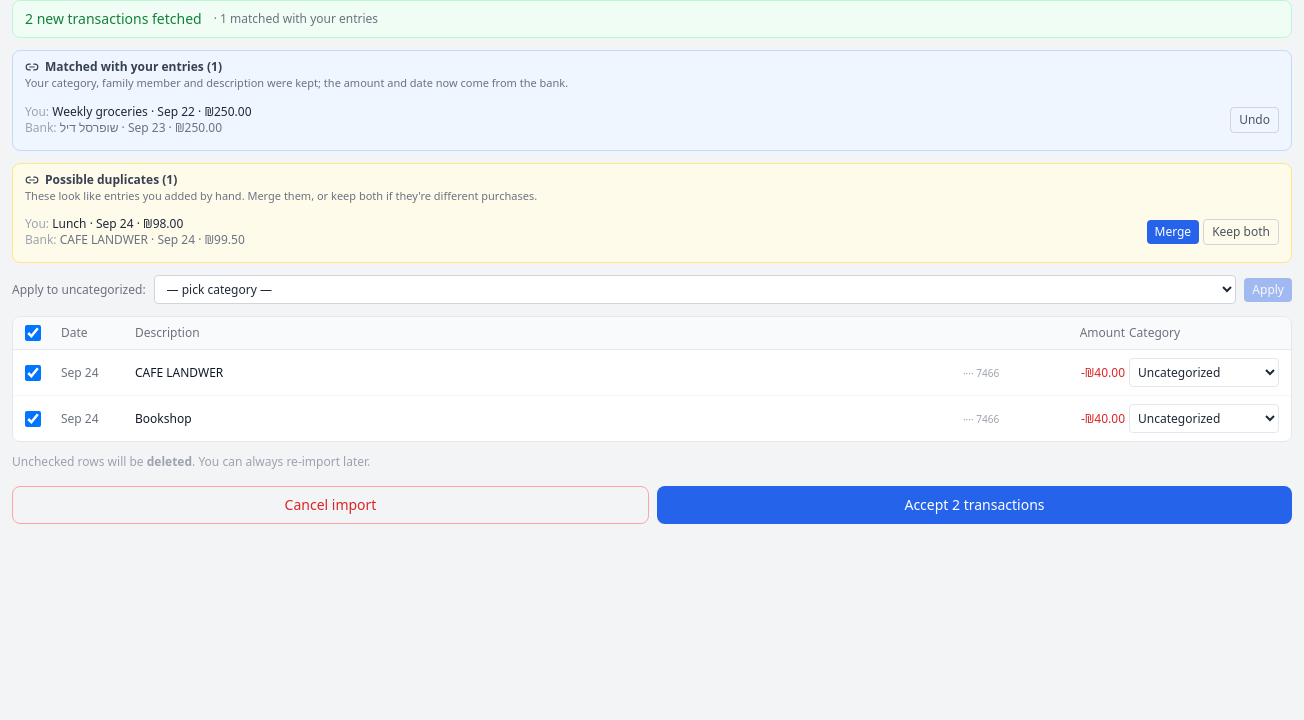
ImportReviewStep matching › undoes a merge and reloads the rows
This screenshot has width=1304, height=720.
Click the button "Undo" at (1255, 120), box [1230,106,1279,132]
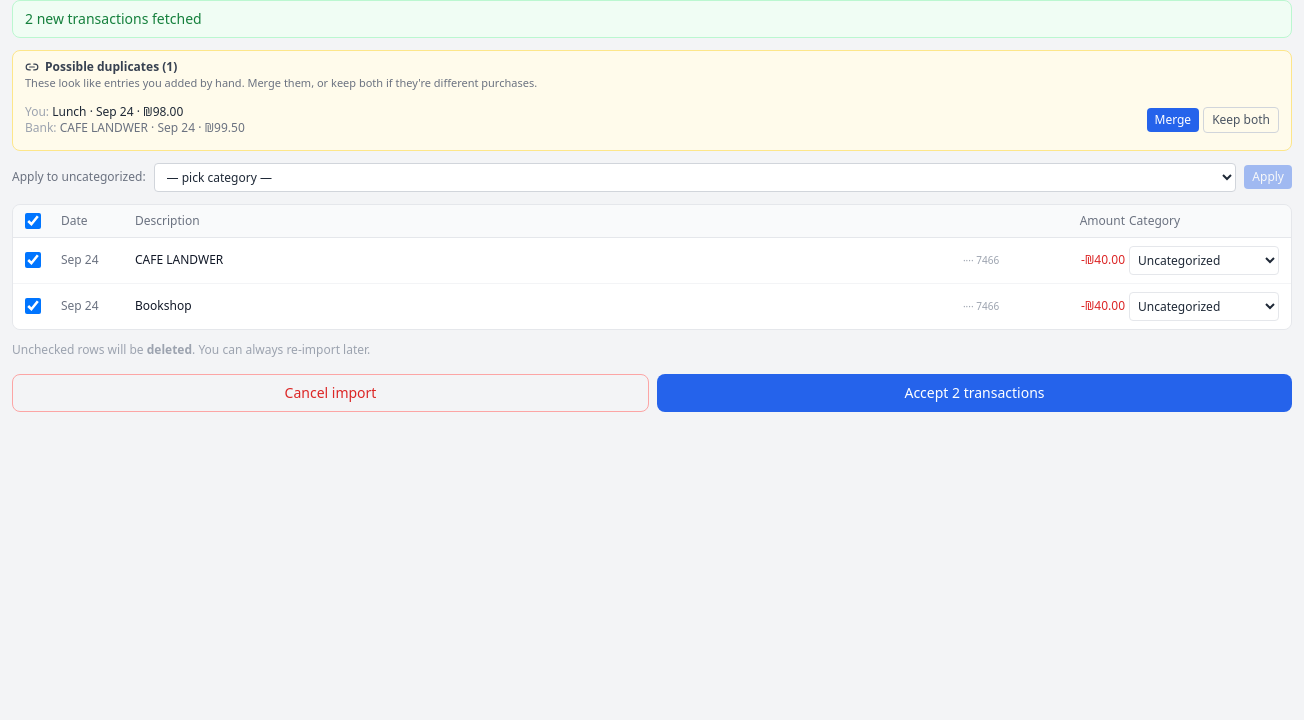
Check: the text "Matched with your entries (1)" is gone
